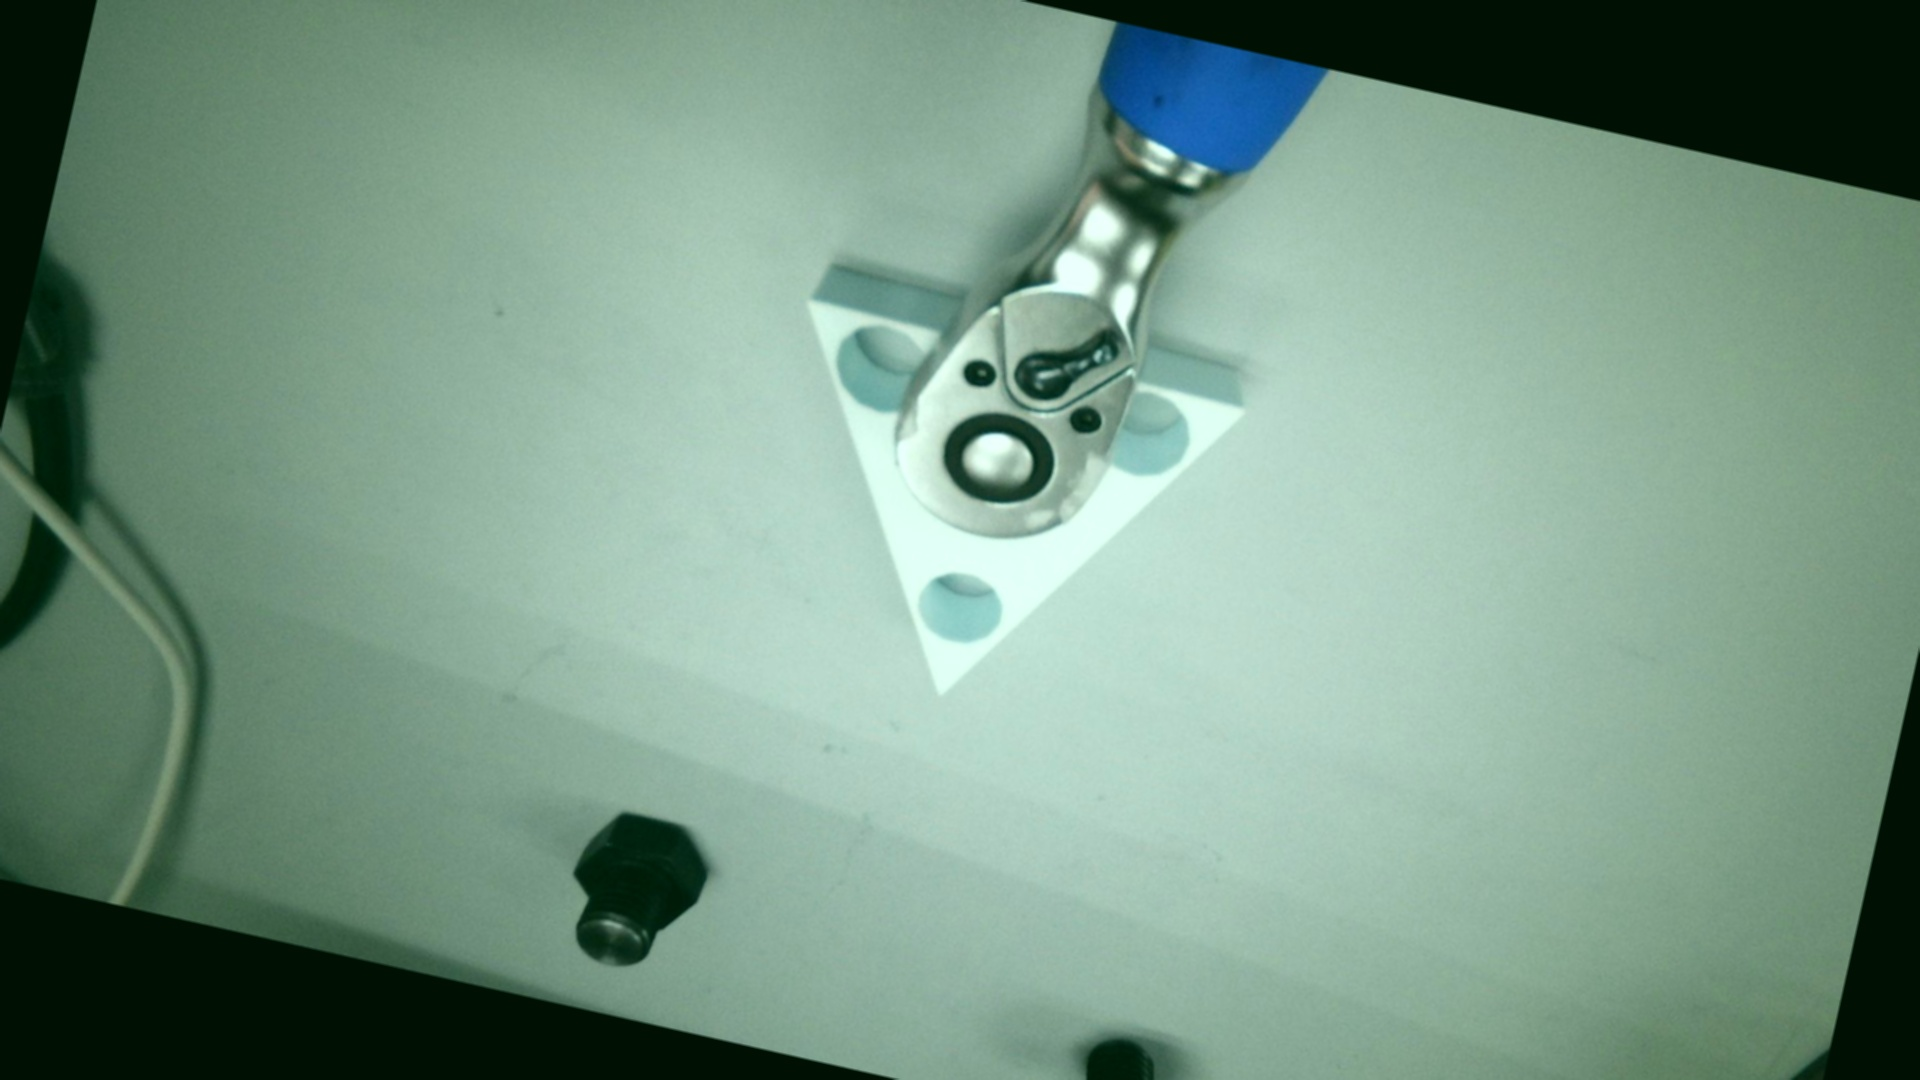hole: (825, 316, 936, 421), (1104, 386, 1197, 485), (910, 564, 1007, 651)
obj: (727, 258, 1254, 746)
wrench: (935, 402, 1064, 516)
